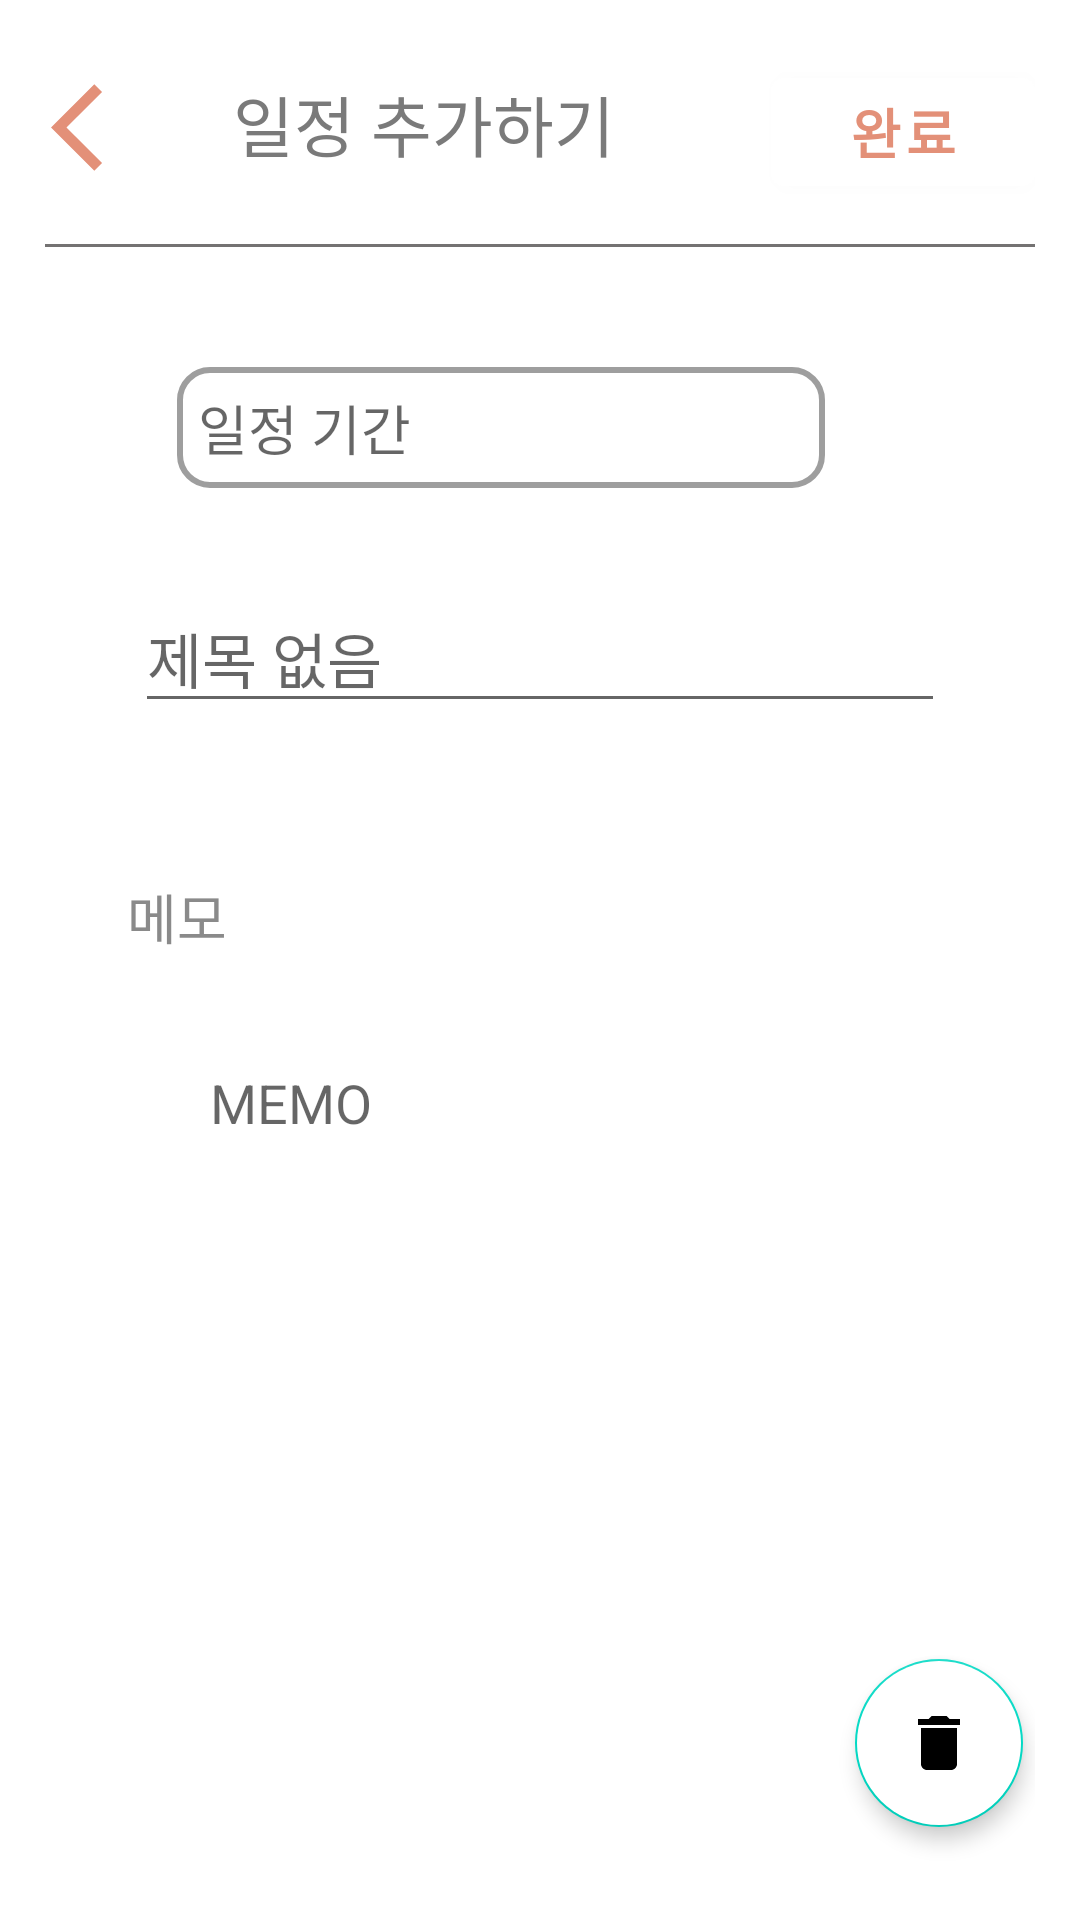

Icon bounding boxes for this 1080×1920 phone screenshot, format bbox=[x1, y1, x2, y2]:
arrow back: bbox=[51, 84, 102, 171]
delete: bbox=[855, 1659, 1023, 1827]
